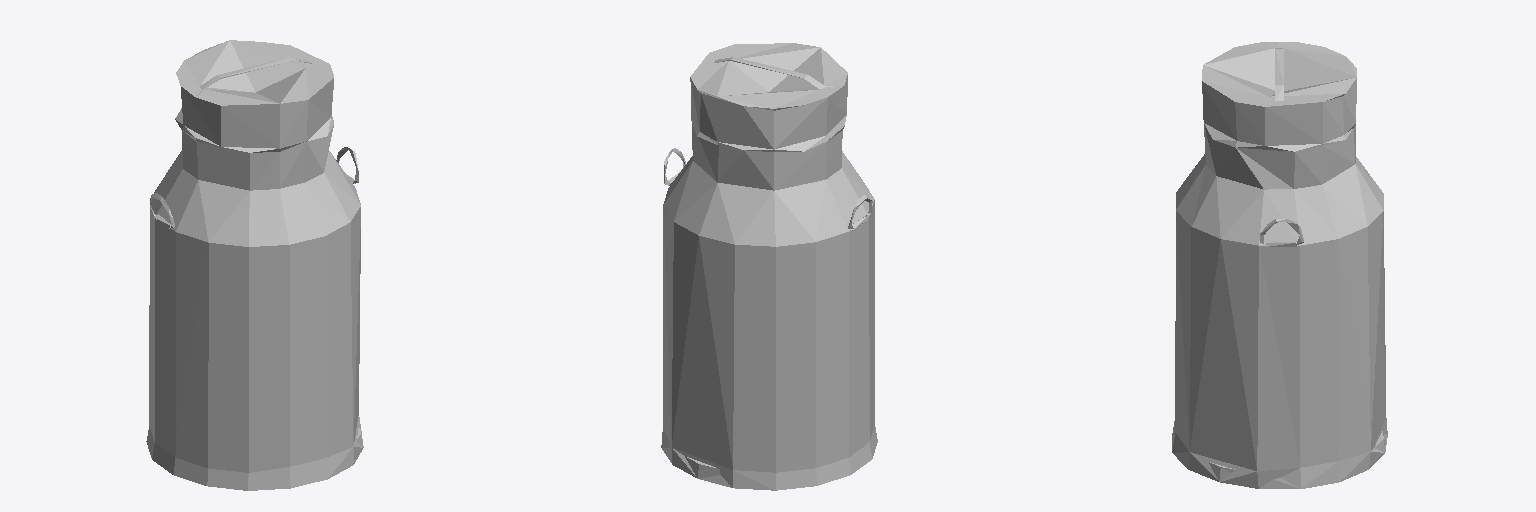
File: Milk Churn_LOD2.obj
The picture shows the model from 3 angles: view 1: azimuth 30°, elevation 25°; view 2: azimuth 150°, elevation 25°; view 3: azimuth 270°, elevation 25°; orthographic projection.
Visible parts, largest first — view 1: Milk_Churn; view 2: Milk_Churn; view 3: Milk_Churn.
Boxes of the visible parts, <box> form: Milk_Churn: <box>146,40,363,490</box>; Milk_Churn: <box>661,43,877,490</box>; Milk_Churn: <box>1172,42,1387,488</box>.
Size of the model in its own units: 0.512 by 0.9468 by 0.49.